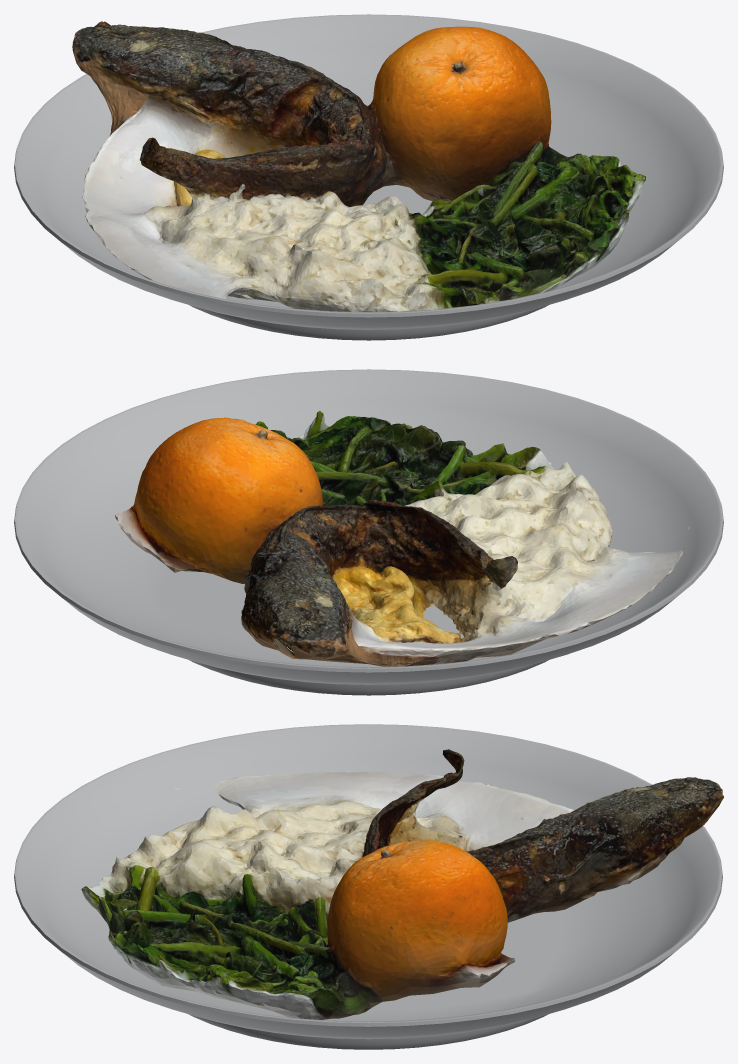
File: nasi_lele.glb
3 views of the same model, one above another, from view 1: azimuth 30°, elevation 25°; view 2: azimuth 150°, elevation 25°; view 3: azimuth 270°, elevation 25° (orthographic).
Visible parts, largest first — view 1: Mesh_0.001, Plate; view 2: Mesh_0.001, Plate; view 3: Mesh_0.001, Plate.
Boxes of the visible parts, x1=… form: Mesh_0.001: x1=72, y1=21, x2=645, y2=312; Plate: x1=14, y1=14, x2=723, y2=340; Mesh_0.001: x1=115, y1=411, x2=689, y2=666; Plate: x1=14, y1=369, x2=723, y2=695; Mesh_0.001: x1=81, y1=749, x2=723, y2=1019; Plate: x1=14, y1=724, x2=722, y2=1049.
Bounding box in the file's own units: 10.96 × 2.68 × 10.98.
Materials: 2 (1 with a texture image).
